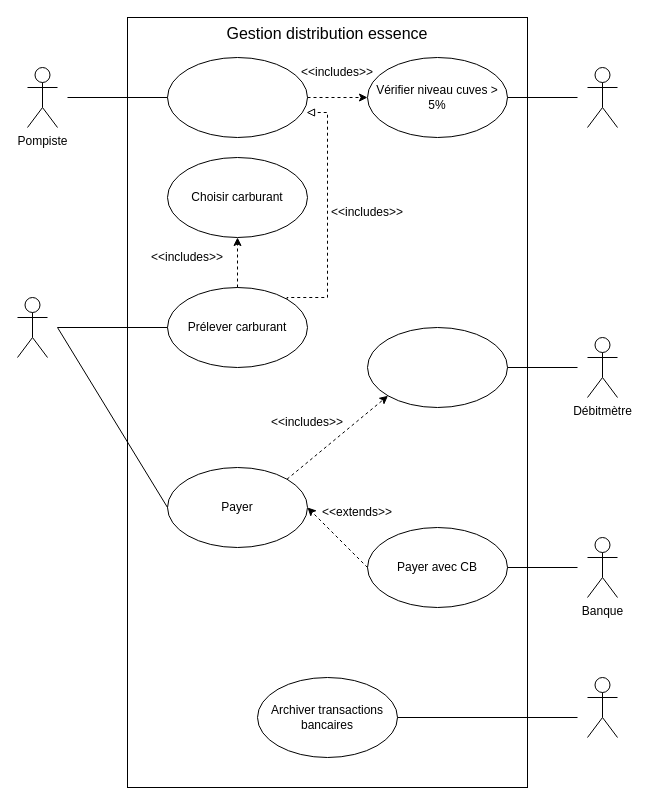
Image size: 649x805. Some labels were removed from this diagram. Here are the shapes that lost their labels. From the top down, the centre of each, then its label:
At pixel 237 97: "Armer pompe".
At pixel 602 97: "Capteur".
At pixel 32 327: "Client".
At pixel 437 367: "Mesurer carburant".
At pixel 602 707: "Timer".
